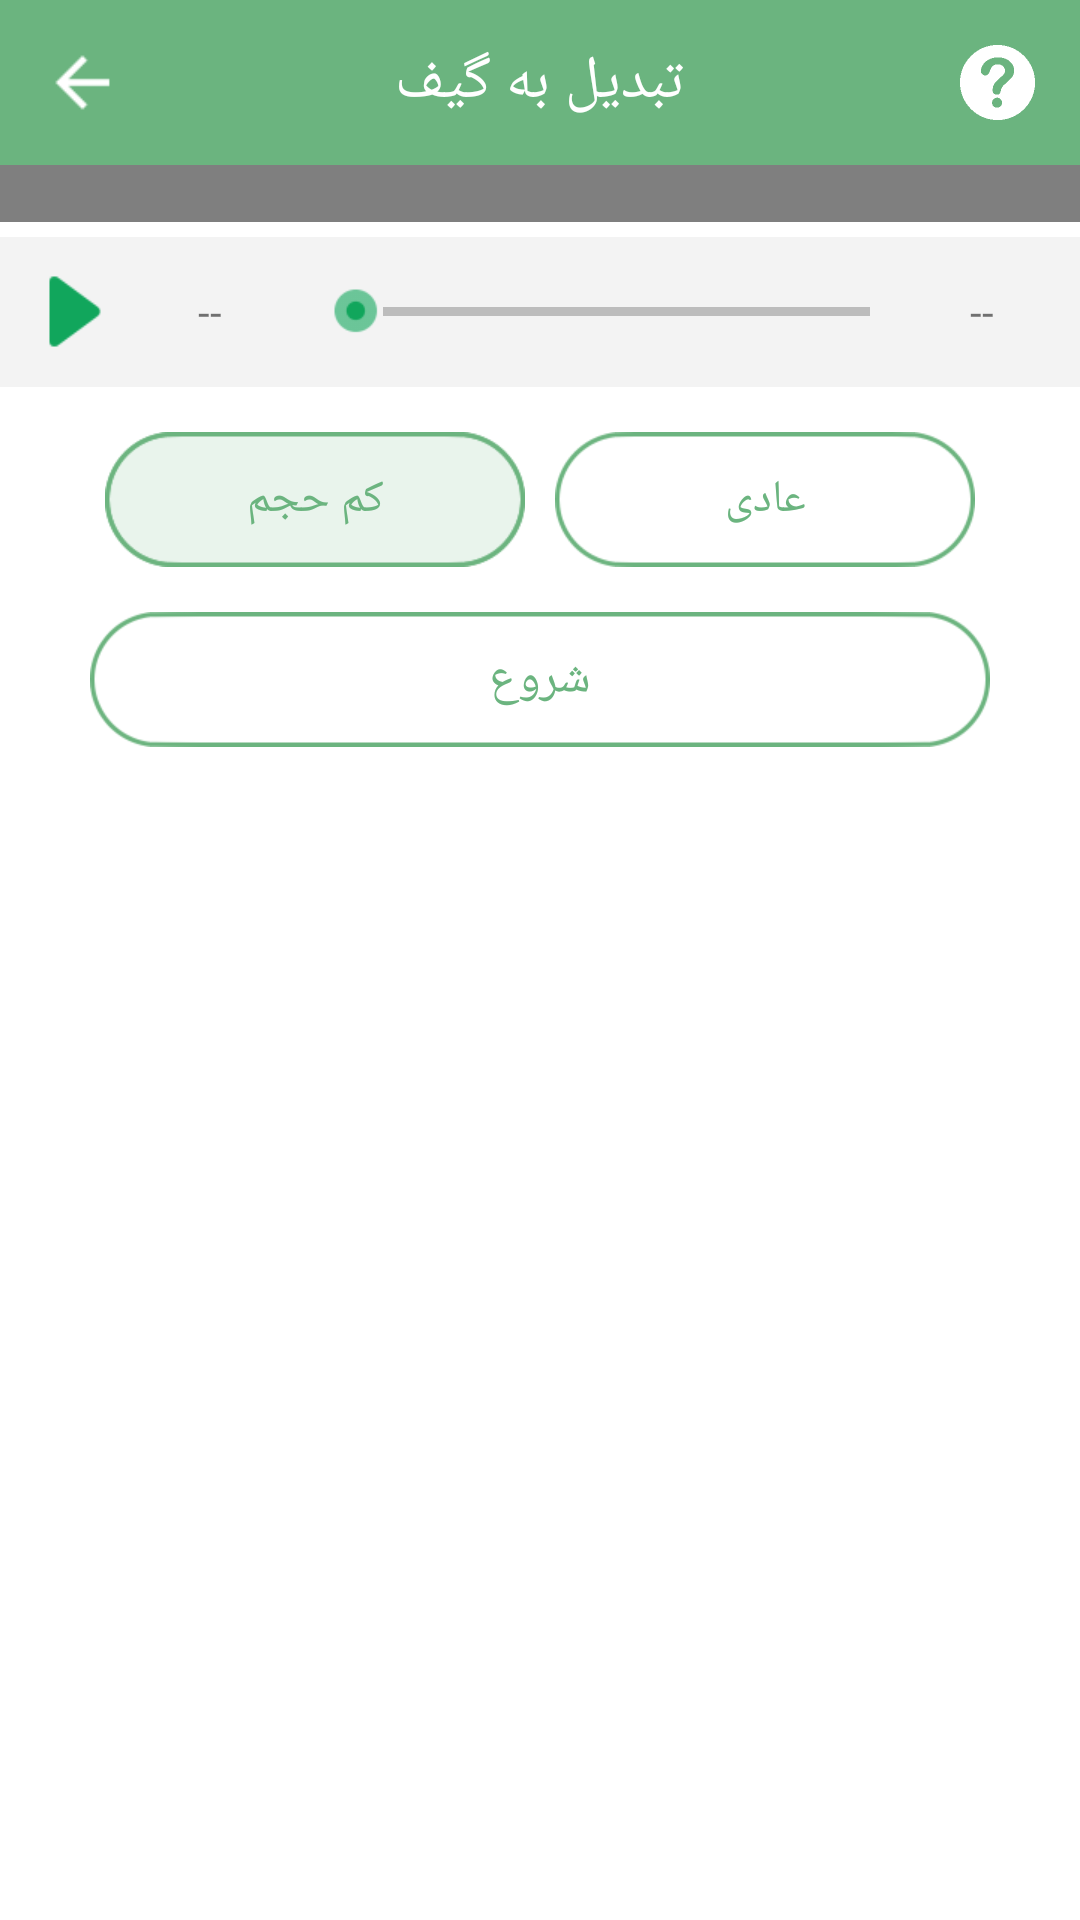

Icon click points for this 1080x1920 phone screenshot, format (x,y):
back unpresed: (82,82)
help: (997,82)
play: (75,311)
